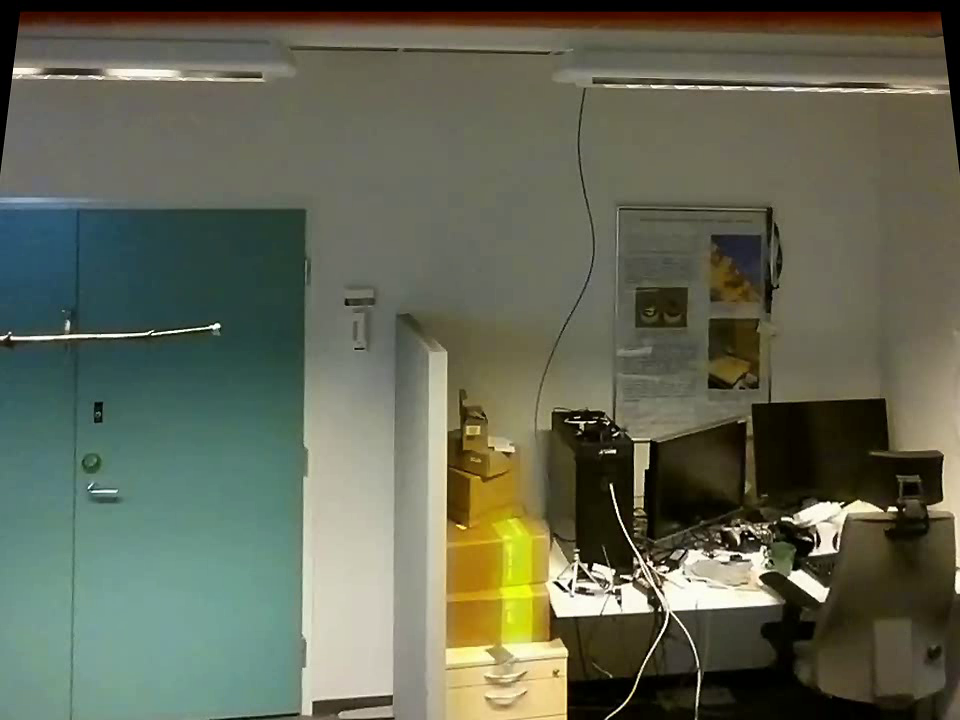branch: (3, 313, 206, 359)
